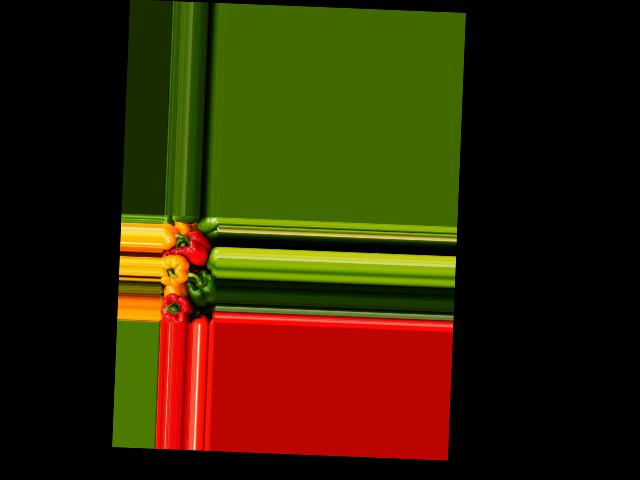bell_pepper: (160, 289, 194, 323)
